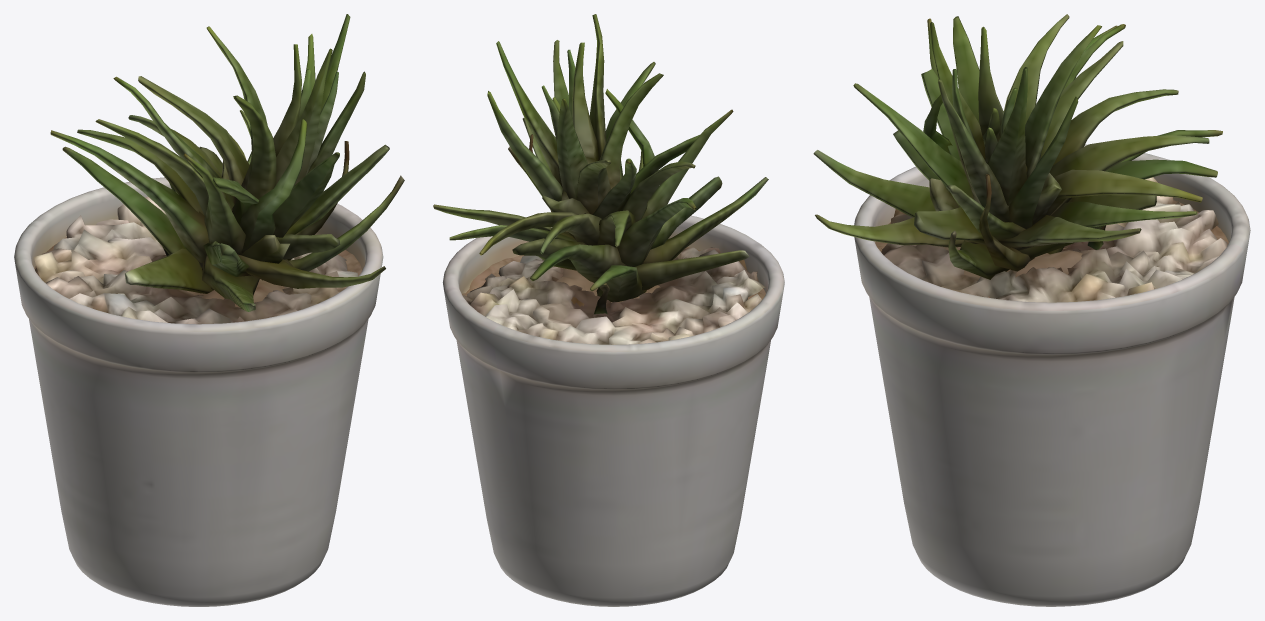
The model's file is potted_plant_04.glb.
3 renders of one model, left to right at view 1: azimuth 30°, elevation 25°; view 2: azimuth 150°, elevation 25°; view 3: azimuth 270°, elevation 25°, orthographic. The views are drawn at different scales.
Visible parts, largest first — view 1: potted_plant_04_ground; view 2: potted_plant_04_ground; view 3: potted_plant_04_ground.
Part boxes in pixels (x1,y1,x2,y2): potted_plant_04_ground: (14,14,404,606); potted_plant_04_ground: (433,14,784,606); potted_plant_04_ground: (813,14,1250,606).
Bounding box in the file's own units: 0.1679 × 0.2675 × 0.1847.
Materials: 1 (1 with a texture image).
